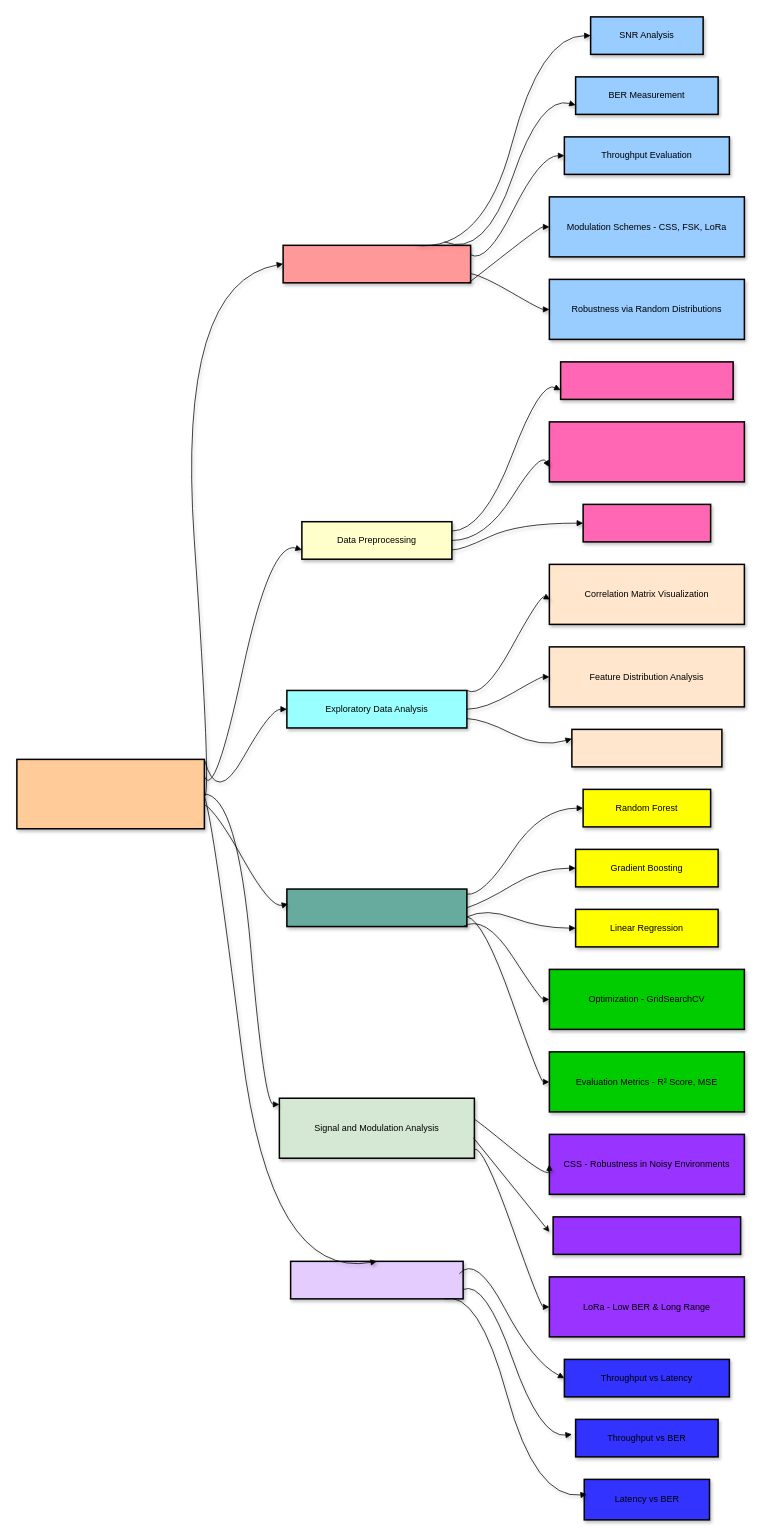
Some shapes in this 762 by 1538 pixel diagram are drawn without their labels. Each missing label, with the centre of its shape:
Encoding Categorical Variables: (x=647, y=453)
Feature Scaling: (x=647, y=524)
FSK - Bandwidth Efficiency: (x=647, y=1236)
Handling Missing Values: (x=647, y=381)
Interactive Subplots: (x=647, y=748)
Machine Learning Models: (x=377, y=908)
Methodology: (x=111, y=794)
Synthetic Data Generation: (x=377, y=264)
Trade-off Identification: (x=377, y=1280)
